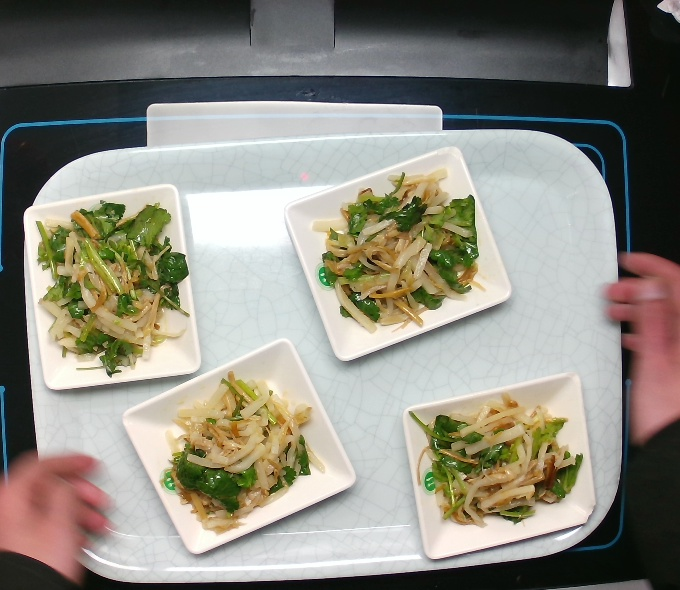wcq-LiangBanJinZhenGu: (36, 197, 194, 376), (316, 175, 487, 336), (167, 371, 315, 530), (412, 384, 580, 519)
